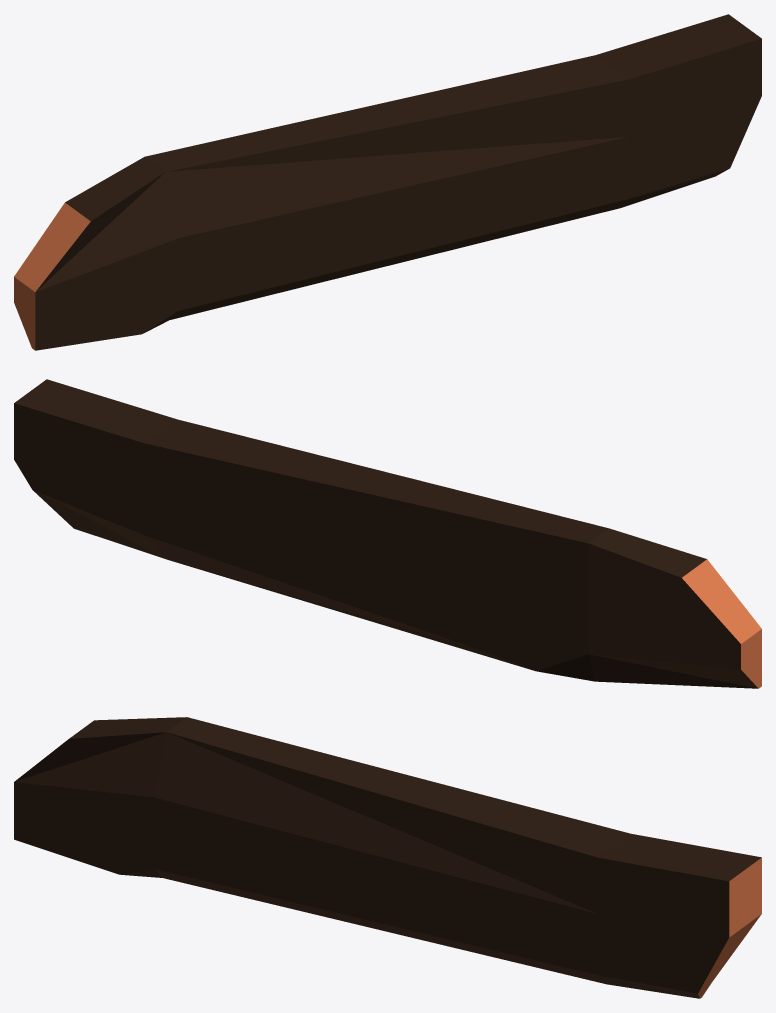
Rendered from Plank_01.FBX.
3 views of the same model, one above another, from view 1: azimuth 30°, elevation 25°; view 2: azimuth 150°, elevation 25°; view 3: azimuth 330°, elevation 25° (orthographic).
Parts seen in each view (by area): view 1: Plank_01; view 2: Plank_01; view 3: Plank_01.
Part boxes in pixels (left/top/right/bottom): Plank_01: left=14, top=14, right=761, bottom=350; Plank_01: left=14, top=379, right=761, bottom=688; Plank_01: left=14, top=717, right=761, bottom=998.
Bounding box in the file's own units: 2.88 × 0.5496 × 0.2284.
